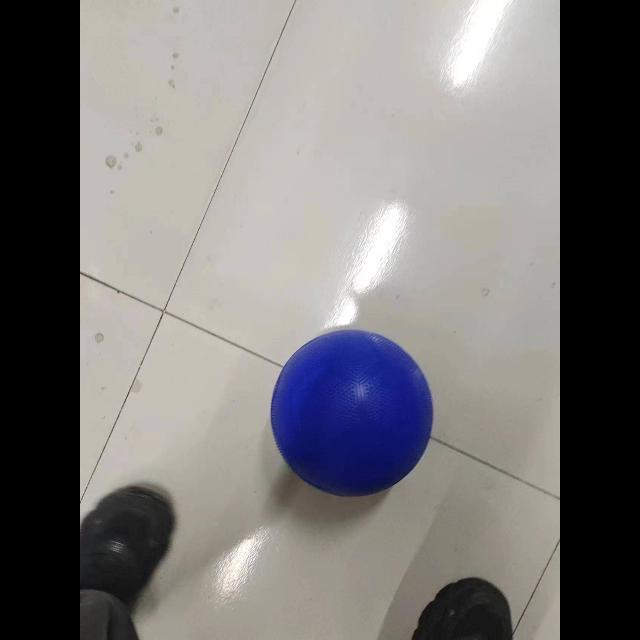B: (268, 328, 437, 500)
